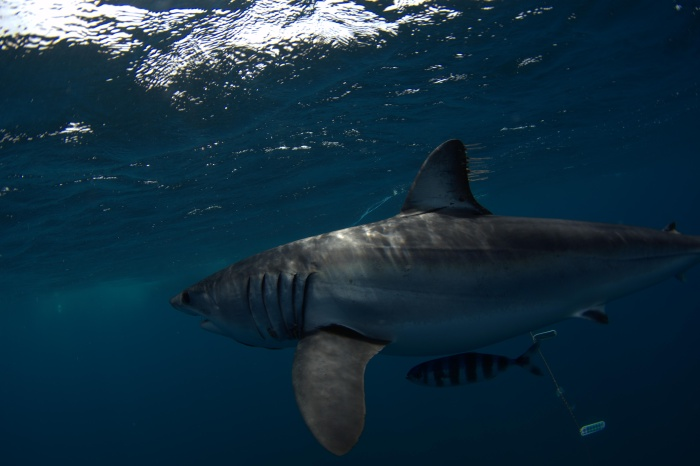Mako: (163, 131, 700, 456)
